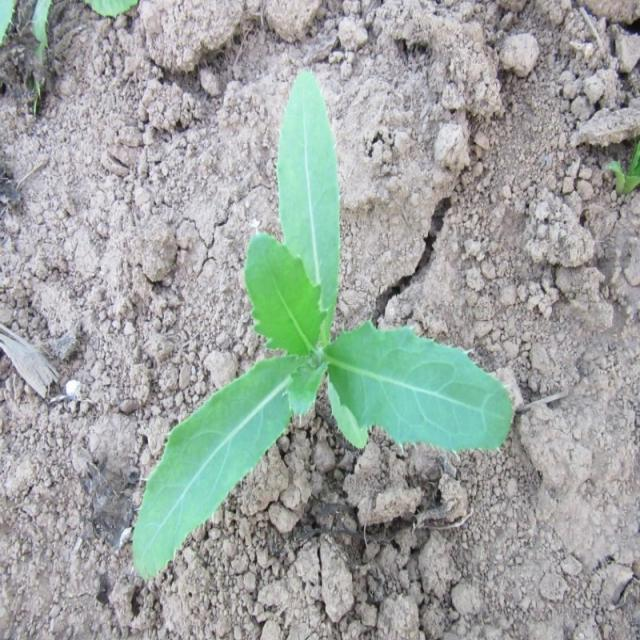cs: (132, 68, 515, 585)
